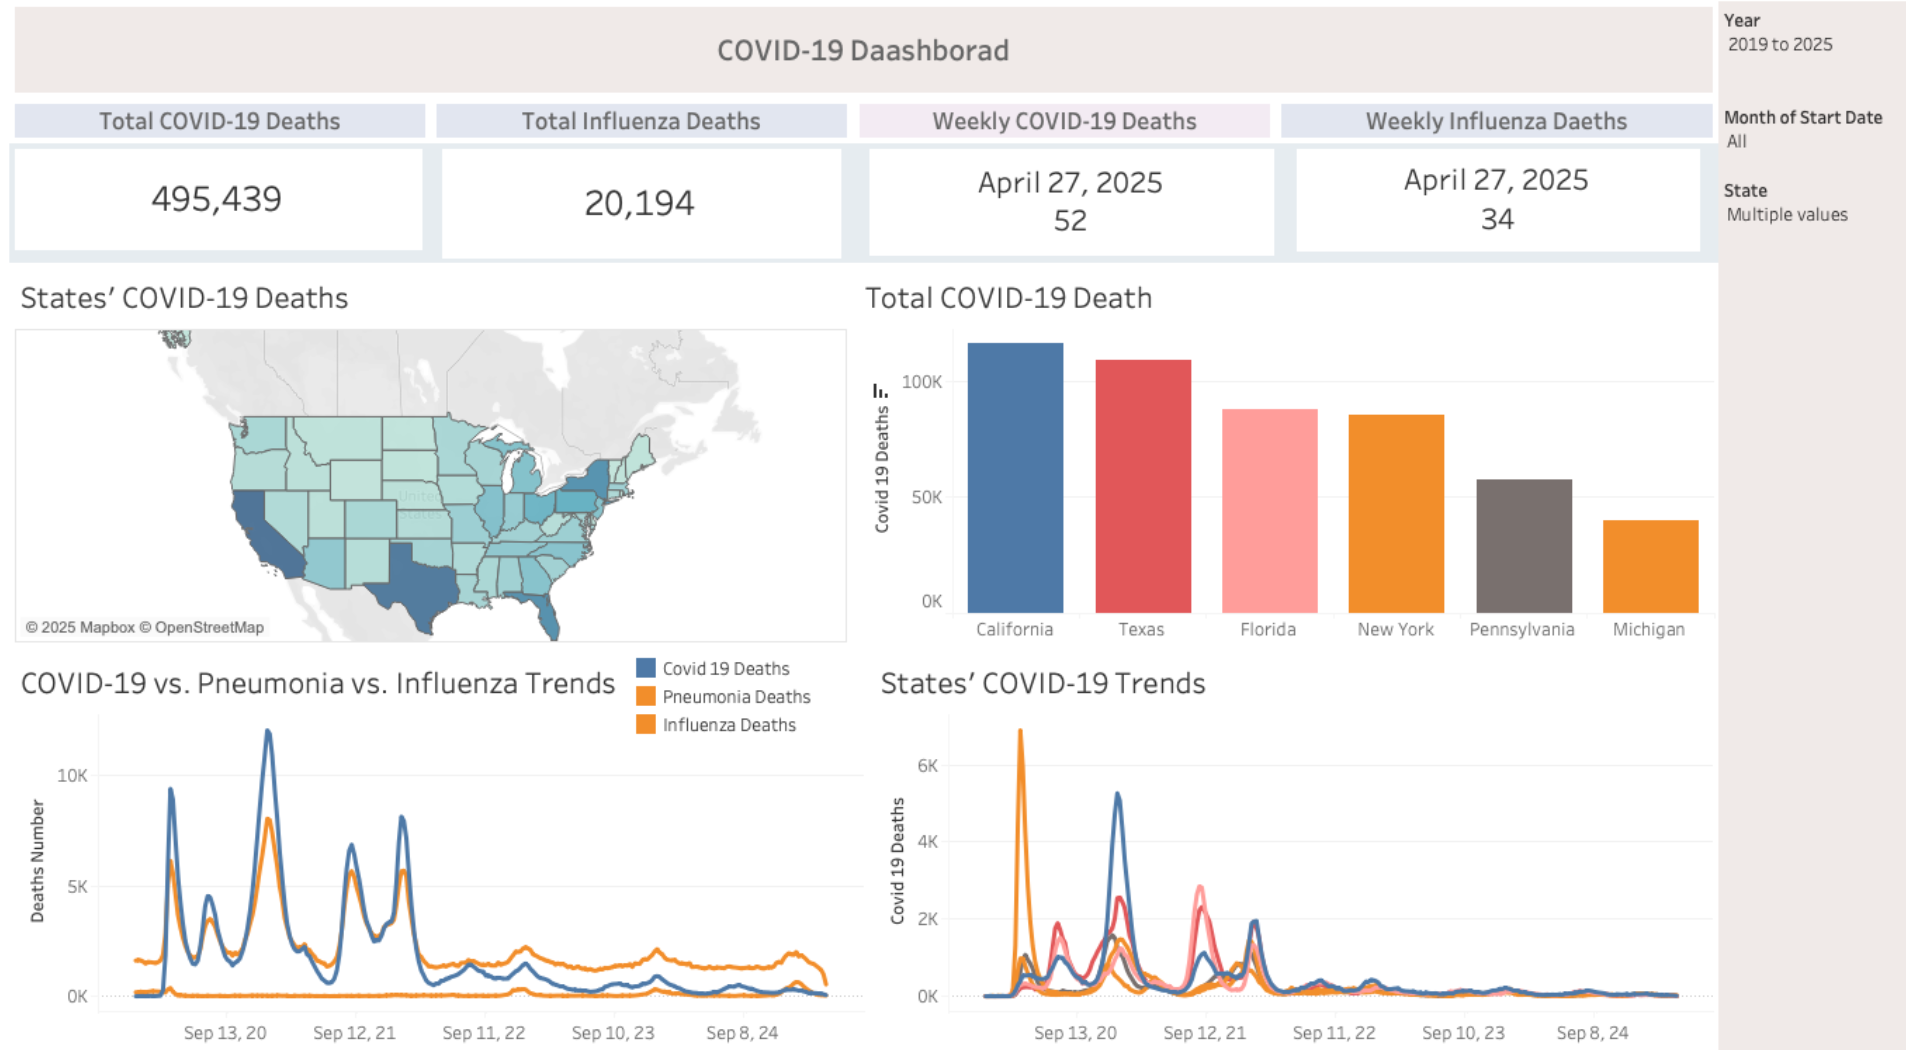

The dashboard page shown, as its layout file describes it:
{"tool":"tableau","page":{"name":"Dashboard 1","canvas":[1366,768],"ordinal":0},"visuals":[{"type":"text","box":[8,8,1216,69]},{"type":"filter","title":"Sheet 1","param":"[federated.1ah3ram04xcmgx17rpye51psmwaw].[none:year:qk]","box":[1224,8,134,69]},{"type":"text","box":[8,77,300.2,31.7]},{"type":"text","box":[308.3,77,300.2,31.7]},{"type":"text","box":[608.5,77,300.2,31.7]},{"type":"text","box":[908.7,77,315.3,31.7]},{"type":"filter","title":"Sheet 3","param":"[federated.1ah3ram04xcmgx17rpye51psmwaw].[mn:start_date:ok]","box":[1224,77,134,52]},{"type":"worksheet","title":"Sheet 5 (2)","mark":"Automatic","box":[8,109,304,85]},{"type":"worksheet","title":"Sheet 6","mark":"Automatic","box":[312,109,304,85]},{"type":"worksheet","title":"Sheet 8","mark":"Automatic","box":[616,109,304,85]},{"type":"worksheet","title":"Sheet 8 (2)","mark":"Automatic","box":[920,109,304,85]},{"type":"filter","title":"Sheet 4","param":"[federated.1ah3ram04xcmgx17rpye51psmwaw].[none:state:nk]","box":[1224,129,134,52]},{"type":"worksheet","title":"Sheet 1","mark":"Automatic","box":[8,194,600.5,274]},{"type":"worksheet","title":"Sheet 3","mark":"Automatic","rows":["covid_19_deaths"],"cols":["state"],"box":[608.5,194,615.5,274]},{"type":"worksheet","title":"Sheet 2","mark":"Automatic","cols":["start_date"],"box":[8,468,611.5,292]},{"type":"worksheet","title":"Sheet 4","mark":"Automatic","rows":["covid_19_deaths"],"cols":["start_date"],"box":[619.5,468,604.5,292]},{"type":"legend","title":"Sheet 2","param":"[federated.1ah3ram04xcmgx17rpye51psmwaw].[:Measure Names]","box":[451,472,140,81]}]}

Visuals, with their boxes in screenshot pixels (x1, y1, x2, y2), scaled from the page's 1366x768 canvas onto the 1906x1050 screenshot:
text: [11,11,1708,105]
"Sheet 1" filter: [1708,11,1895,105]
text: [11,105,430,149]
text: [430,105,849,149]
text: [849,105,1268,149]
text: [1268,105,1708,149]
"Sheet 3" filter: [1708,105,1895,176]
"Sheet 5 (2)" worksheet: [11,149,435,265]
"Sheet 6" worksheet: [435,149,860,265]
"Sheet 8" worksheet: [860,149,1284,265]
"Sheet 8 (2)" worksheet: [1284,149,1708,265]
"Sheet 4" filter: [1708,176,1895,247]
"Sheet 1" worksheet: [11,265,849,640]
"Sheet 3" worksheet: [849,265,1708,640]
"Sheet 2" worksheet: [11,640,864,1039]
"Sheet 4" worksheet: [864,640,1708,1039]
"Sheet 2" legend: [629,645,825,756]
